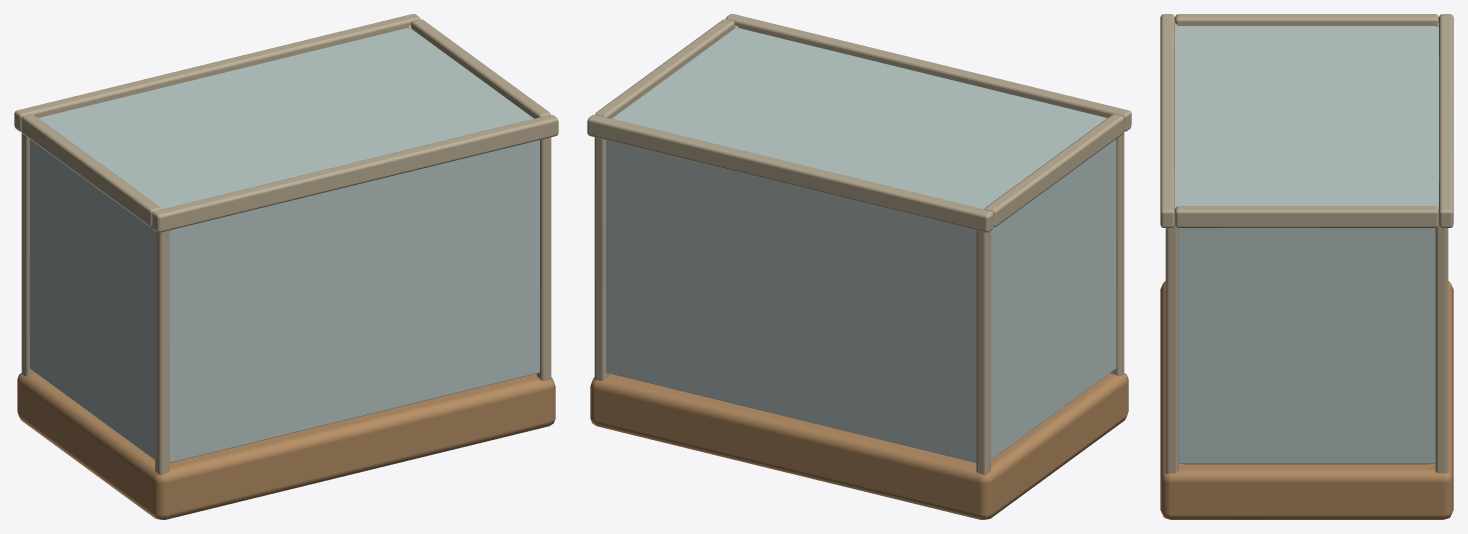
Rendered from pastrycase.glb.
3 views of the same model, side by side, from view 1: azimuth 30°, elevation 25°; view 2: azimuth 150°, elevation 25°; view 3: azimuth 270°, elevation 25° (orthographic).
Parts seen in each view (by area): view 1: front-rear-glazing-1, top-glazing, display-case-base, side-glazing--1, upper-glazing-front-rear-1, upper-glazing-front-rear--1, upper-glazing-side--1, case-corner-post--1-1, case-corner-post-1-1, upper-glazing-side-1, case-corner-post--1--1; view 2: front-rear-glazing--1, top-glazing, display-case-base, side-glazing--1, upper-glazing-front-rear--1, upper-glazing-front-rear-1, upper-glazing-side--1, case-corner-post--1--1, case-corner-post-1--1, upper-glazing-side-1, case-corner-post--1-1; view 3: side-glazing-1, top-glazing, display-case-base, upper-glazing-side-1, case-corner-post-1--1, case-corner-post-1-1, upper-glazing-front-rear--1, upper-glazing-front-rear-1, upper-glazing-side--1.
Boxes of the visible parts, x1,y1,x2,y2 form: front-rear-glazing-1: (169,140,539,462); top-glazing: (38,28,533,209); display-case-base: (17,373,555,519); side-glazing--1: (29,139,154,459); upper-glazing-front-rear-1: (152,115,558,232); upper-glazing-front-rear--1: (14,14,420,131); upper-glazing-side--1: (21,114,161,227); case-corner-post--1-1: (155,230,169,475); case-corner-post-1-1: (536,137,551,380); upper-glazing-side-1: (411,19,550,118); case-corner-post--1--1: (21,132,34,376); front-rear-glazing--1: (606,140,976,462); top-glazing: (612,28,1107,209); display-case-base: (590,373,1128,519); side-glazing--1: (991,139,1116,459); upper-glazing-front-rear--1: (587,115,993,232); upper-glazing-front-rear-1: (725,14,1131,131); upper-glazing-side--1: (984,114,1124,227); case-corner-post--1--1: (976,230,990,475); case-corner-post-1--1: (594,137,609,380); upper-glazing-side-1: (595,19,734,118); case-corner-post--1-1: (1111,132,1124,376); side-glazing-1: (1178,228,1435,463); top-glazing: (1175,26,1438,208); display-case-base: (1160,281,1453,519); upper-glazing-side-1: (1175,206,1438,227); case-corner-post-1--1: (1435,225,1448,473); case-corner-post-1-1: (1165,225,1178,473); upper-glazing-front-rear--1: (1439,14,1453,227); upper-glazing-front-rear-1: (1160,14,1174,227); upper-glazing-side--1: (1175,14,1438,25).
Bounding box in the file's own units: 0.8 × 0.5893 × 0.5.
